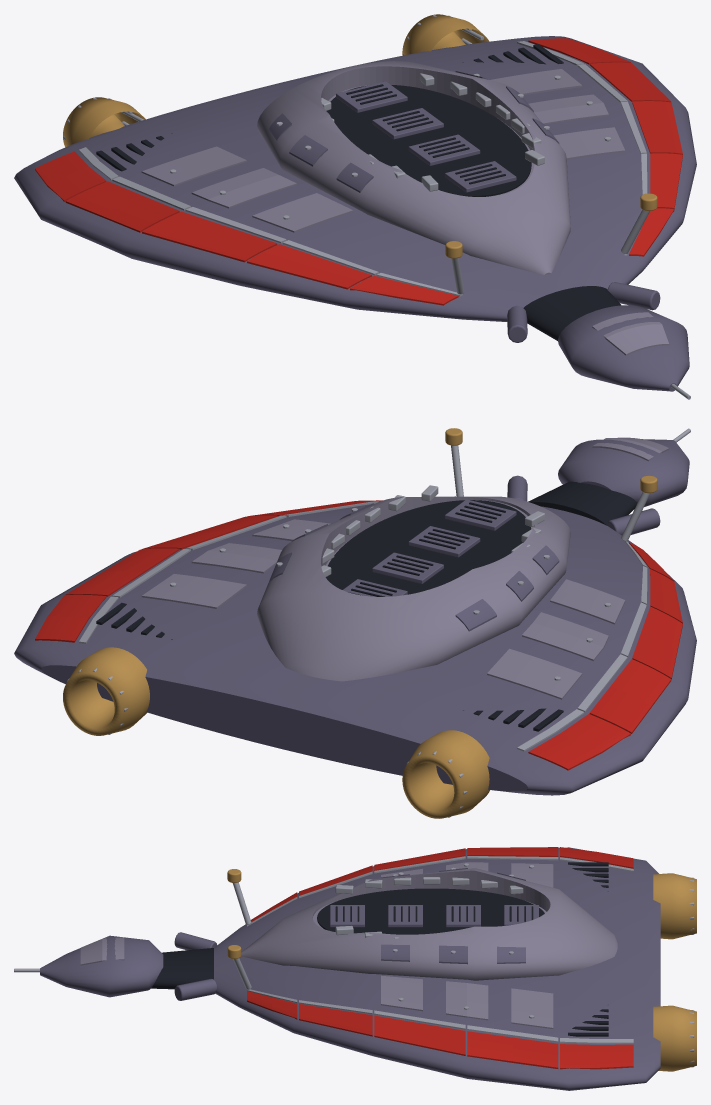
3 views of the same model, one above another, from view 1: azimuth 30°, elevation 25°; view 2: azimuth 150°, elevation 25°; view 3: azimuth 270°, elevation 25° (orthographic). The views are drawn at different scales.
Visible parts, largest first — view 1: HullPartialBatch_00, HullFinalBatch_01, HullFinalBatch_03, HullPartialBatch_02, HullPartialBatch_06, HullFinalBatch_04, HullFinalBatch_11, HullPartialBatch_07, HullFinalBatch_05, HullPartialBatch_09, HullPartialBatch_08, HullFinalBatch_12; view 2: HullFinalBatch_01, HullPartialBatch_00, HullFinalBatch_03, HullPartialBatch_02, HullFinalBatch_04, HullPartialBatch_06, HullPartialBatch_08, HullFinalBatch_12, HullFinalBatch_11, HullFinalBatch_05, HullPartialBatch_09, HullPartialBatch_07; view 3: HullFinalBatch_01, HullFinalBatch_03, HullPartialBatch_00, HullFinalBatch_11, HullFinalBatch_04, HullFinalBatch_05, HullPartialBatch_06, HullPartialBatch_08, HullFinalBatch_12, HullPartialBatch_09, HullPartialBatch_02, HullPartialBatch_07.
Part boxes in pixels (x1=…): HullPartialBatch_00: x1=14, y1=100, x2=689, y2=391; HullFinalBatch_01: x1=194, y1=36, x2=696, y2=342; HullFinalBatch_03: x1=269, y1=61, x2=625, y2=275; HullPartialBatch_02: x1=141, y1=105, x2=669, y2=355; HullPartialBatch_06: x1=35, y1=151, x2=643, y2=305; HullFinalBatch_04: x1=326, y1=44, x2=563, y2=196; HullFinalBatch_11: x1=528, y1=38, x2=682, y2=256; HullPartialBatch_07: x1=63, y1=97, x2=690, y2=399; HullFinalBatch_05: x1=321, y1=15, x2=647, y2=296; HullPartialBatch_09: x1=96, y1=133, x2=620, y2=340; HullPartialBatch_08: x1=63, y1=97, x2=657, y2=258; HullFinalBatch_12: x1=402, y1=14, x2=489, y2=54; HullFinalBatch_01: x1=14, y1=475, x2=660, y2=770; HullPartialBatch_00: x1=325, y1=439, x2=696, y2=795; HullFinalBatch_03: x1=141, y1=496, x2=570, y2=681; HullPartialBatch_02: x1=427, y1=437, x2=669, y2=699; HullFinalBatch_04: x1=96, y1=500, x2=531, y2=639; HullPartialBatch_06: x1=528, y1=542, x2=682, y2=770; HullPartialBatch_08: x1=402, y1=428, x2=657, y2=818; HullFinalBatch_12: x1=63, y1=647, x2=149, y2=735; HullFinalBatch_11: x1=35, y1=500, x2=382, y2=642; HullFinalBatch_05: x1=67, y1=447, x2=640, y2=734; HullPartialBatch_09: x1=463, y1=481, x2=637, y2=731; HullPartialBatch_07: x1=406, y1=428, x2=690, y2=817; HullFinalBatch_01: x1=174, y1=904, x2=660, y2=1090; HullFinalBatch_03: x1=241, y1=868, x2=617, y2=1028; HullPartialBatch_00: x1=40, y1=847, x2=660, y2=1005; HullFinalBatch_11: x1=247, y1=991, x2=633, y2=1069; HullFinalBatch_04: x1=317, y1=888, x2=608, y2=1036; HullFinalBatch_05: x1=234, y1=876, x2=694, y2=1067; HullPartialBatch_06: x1=251, y1=847, x2=633, y2=921; HullPartialBatch_08: x1=227, y1=869, x2=696, y2=958; HullFinalBatch_12: x1=653, y1=1005, x2=696, y2=1071; HullPartialBatch_09: x1=151, y1=862, x2=608, y2=989; HullPartialBatch_02: x1=80, y1=862, x2=553, y2=965; HullPartialBatch_07: x1=14, y1=856, x2=694, y2=989.
Bounding box in the file's own units: 3.86 × 0.791 × 4.71.
